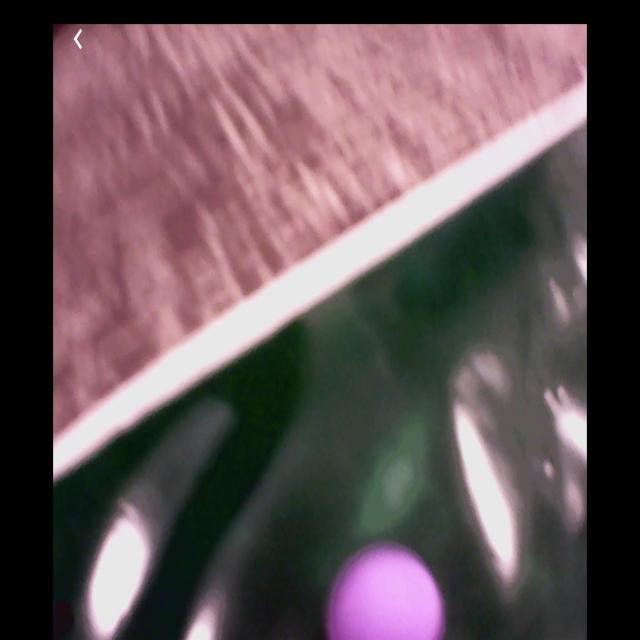ball: (328, 546, 445, 640)
